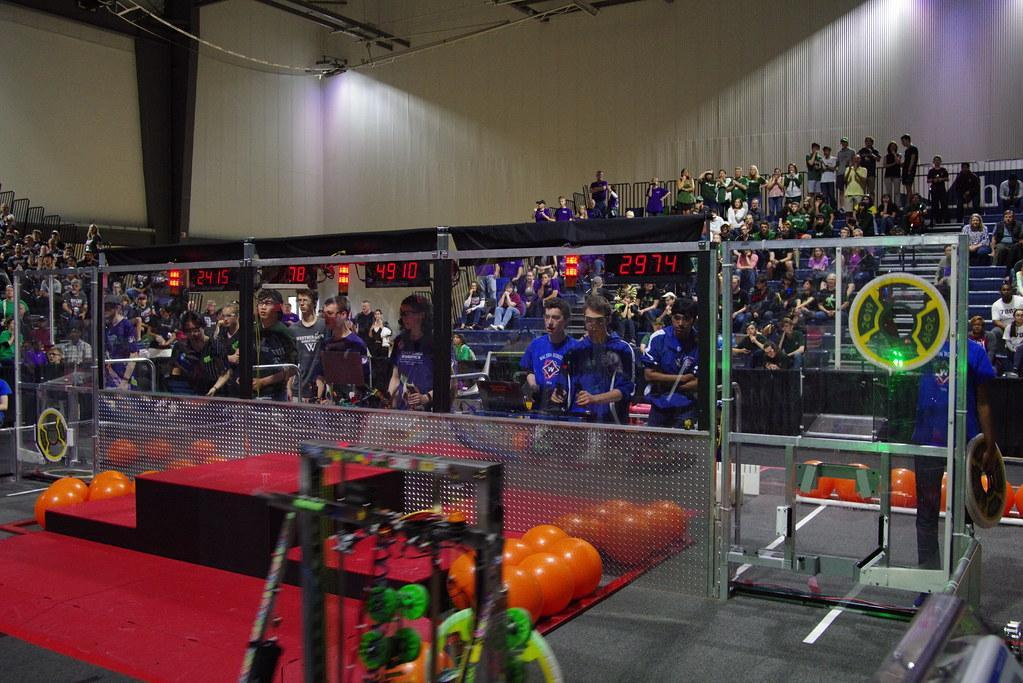robot: (215, 438, 576, 683)
